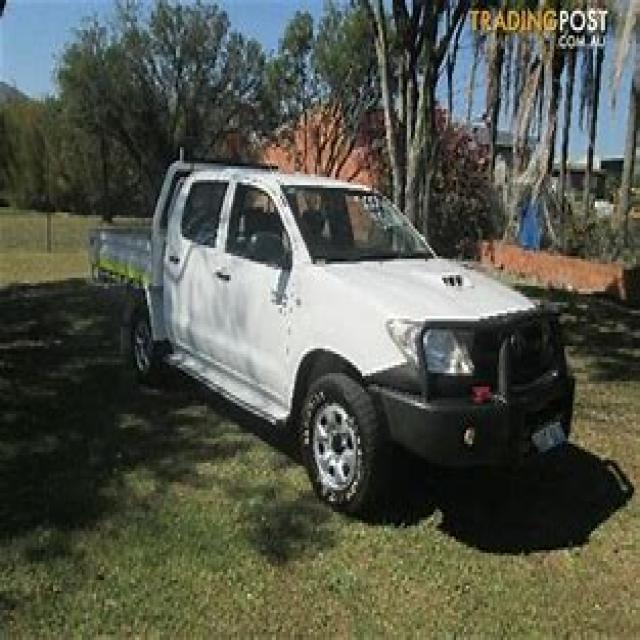light_vehicle: (84, 150, 574, 523)
